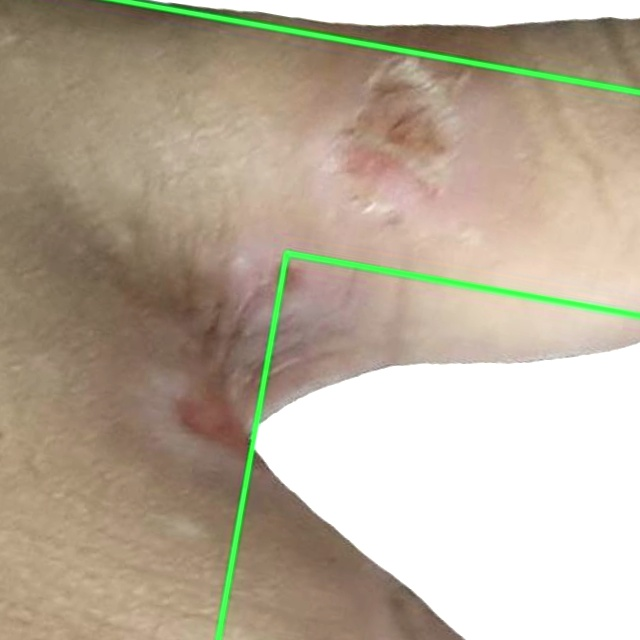Scabies: (218, 252, 639, 639)
